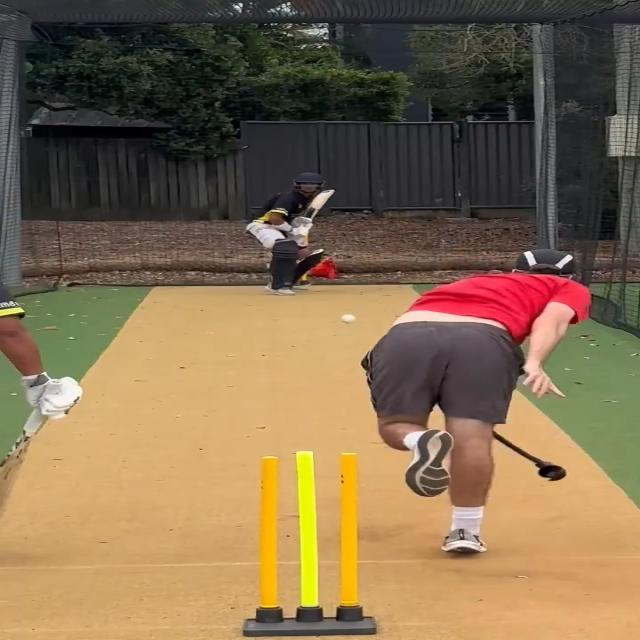ball: (340, 313, 357, 324)
stump: (242, 450, 378, 638)
